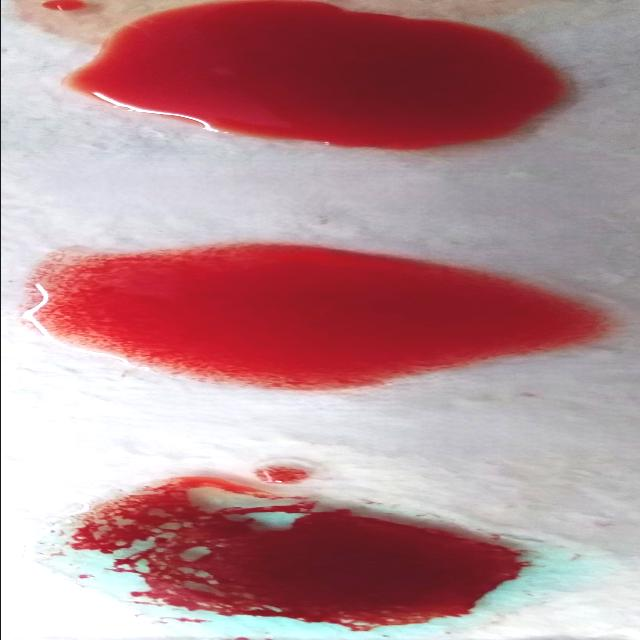A: (18, 479, 612, 638)
D: (26, 248, 614, 384)
